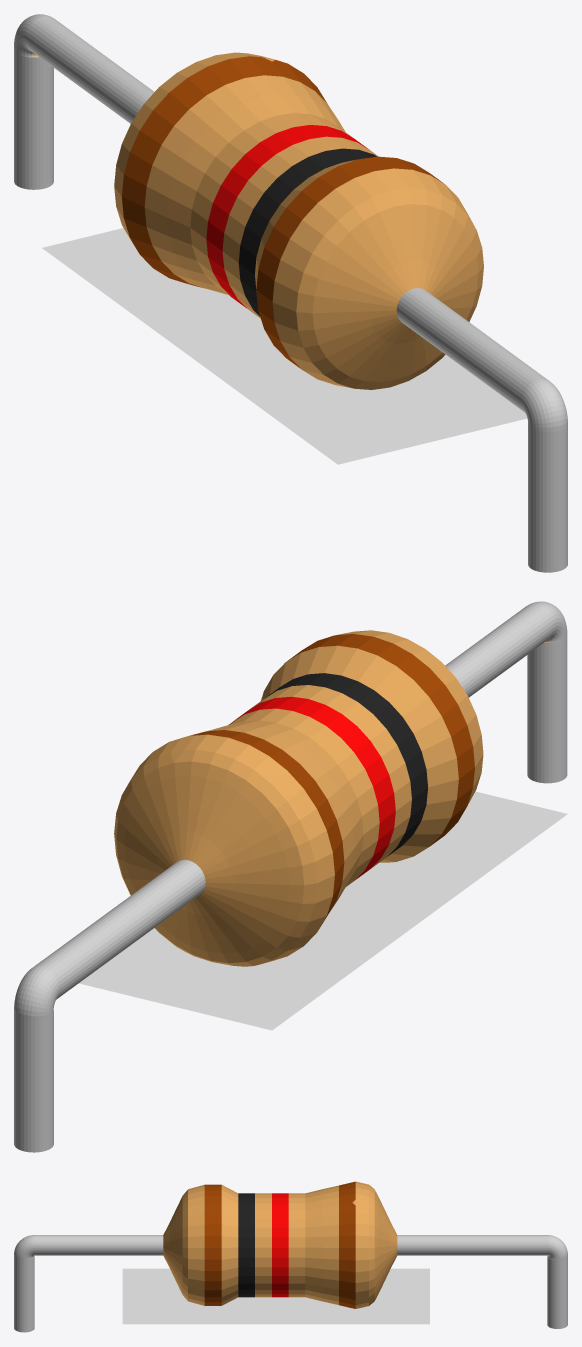
File: R1_tan_2.gltf
3 renders of one model, top to bottom at view 1: azimuth 30°, elevation 25°; view 2: azimuth 150°, elevation 25°; view 3: azimuth 270°, elevation 25°, orthographic. The views are drawn at different scales.
Parts seen in each view (by area): view 1: R1_tan_2, R1_tan_2_plane; view 2: R1_tan_2, R1_tan_2_plane; view 3: R1_tan_2, R1_tan_2_plane.
Part boxes in pixels (left/top/right/bottom): R1_tan_2: left=14, top=14, right=567, bottom=572; R1_tan_2_plane: left=42, top=228, right=527, bottom=464; R1_tan_2: left=14, top=601, right=567, bottom=1152; R1_tan_2_plane: left=79, top=791, right=567, bottom=1030; R1_tan_2: left=14, top=1181, right=567, bottom=1332; R1_tan_2_plane: left=122, top=1268, right=429, bottom=1324.
Bounding box in the file's own units: 0.0162 × 0.0189 × 0.0676.
